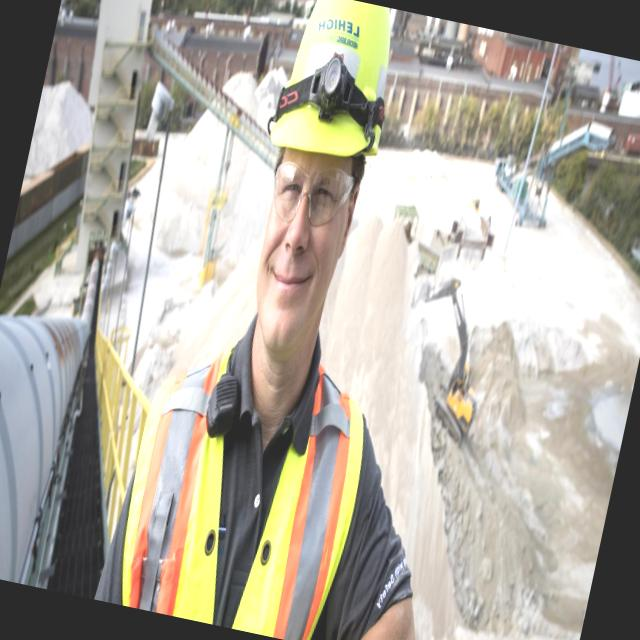helmet: (258, 0, 405, 185)
vest: (106, 345, 377, 640)
